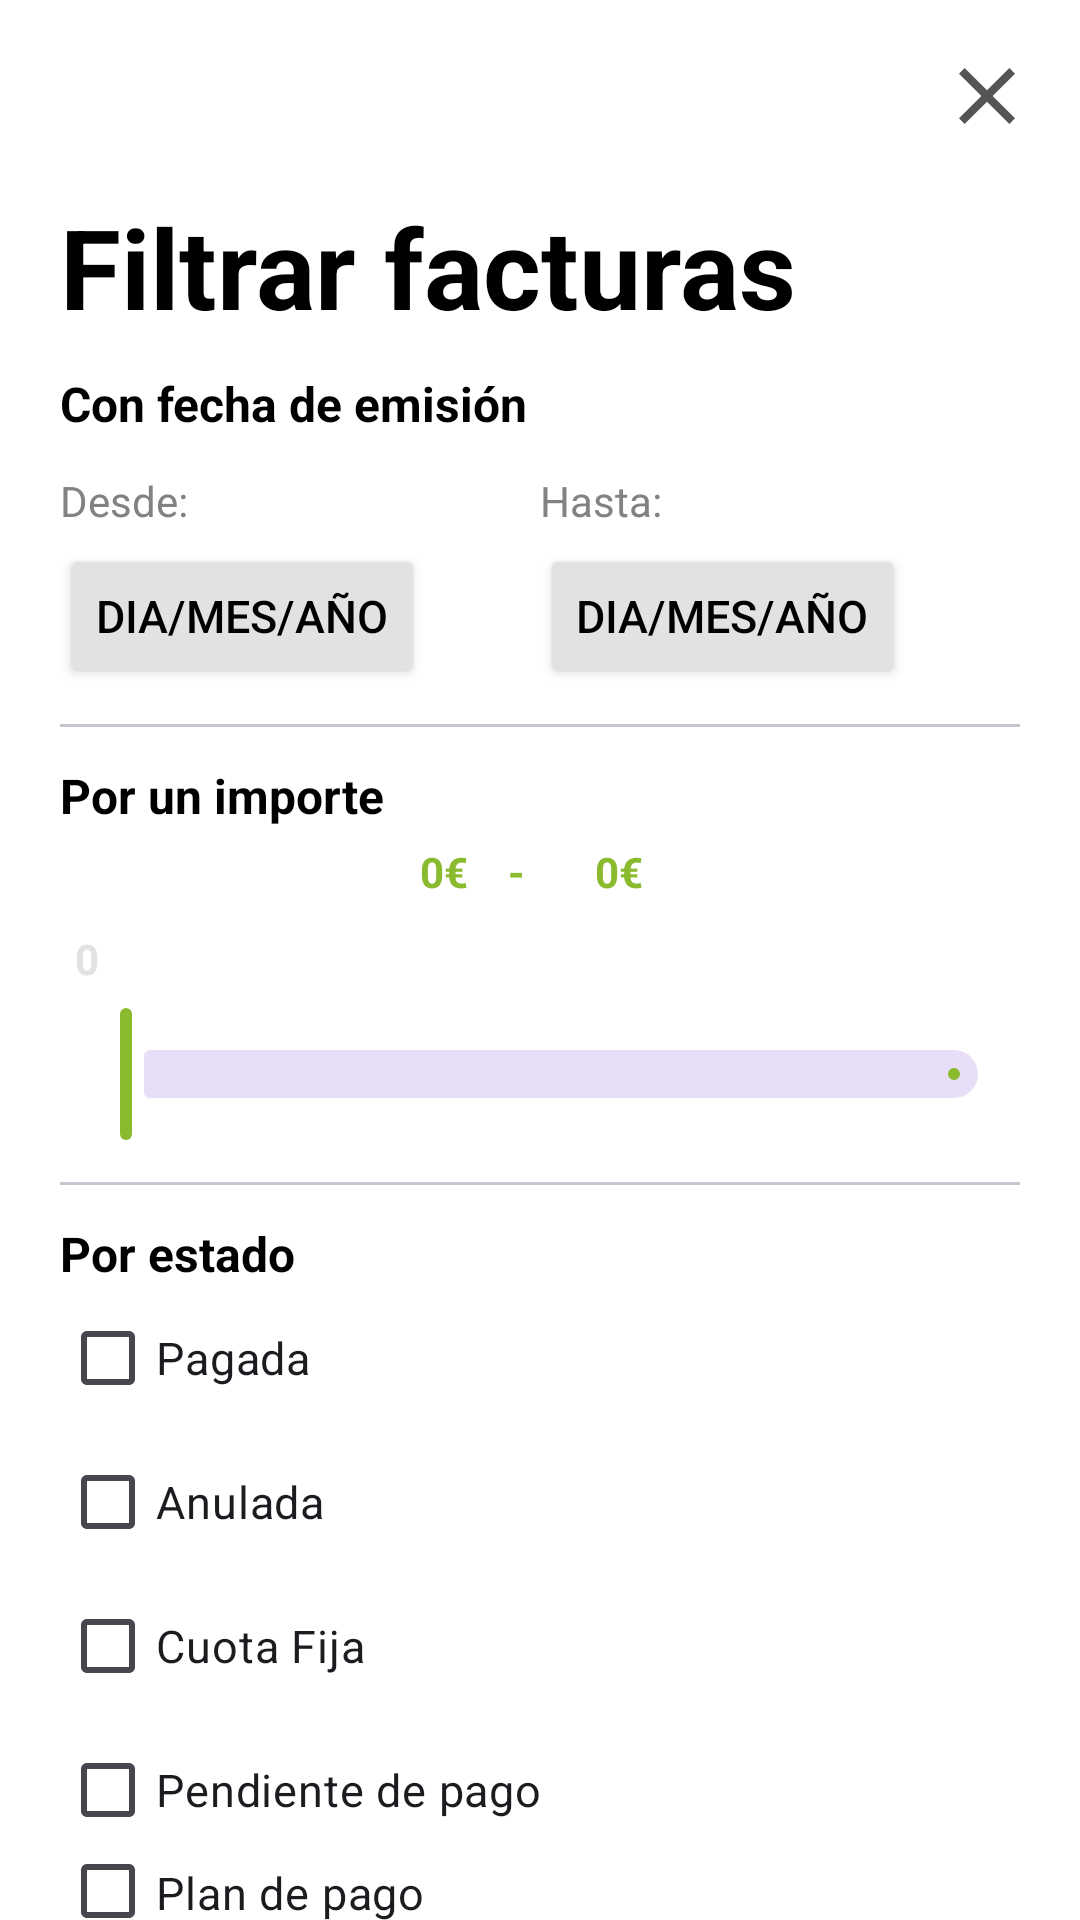

Screen size 1080px x 1920px. Icon name, then its center in pixels as (x=x, y=y):
close: (x=987, y=96)
